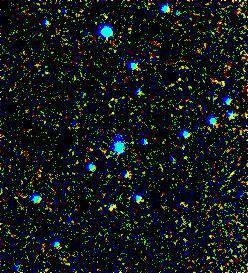star: (95, 192, 125, 222)
